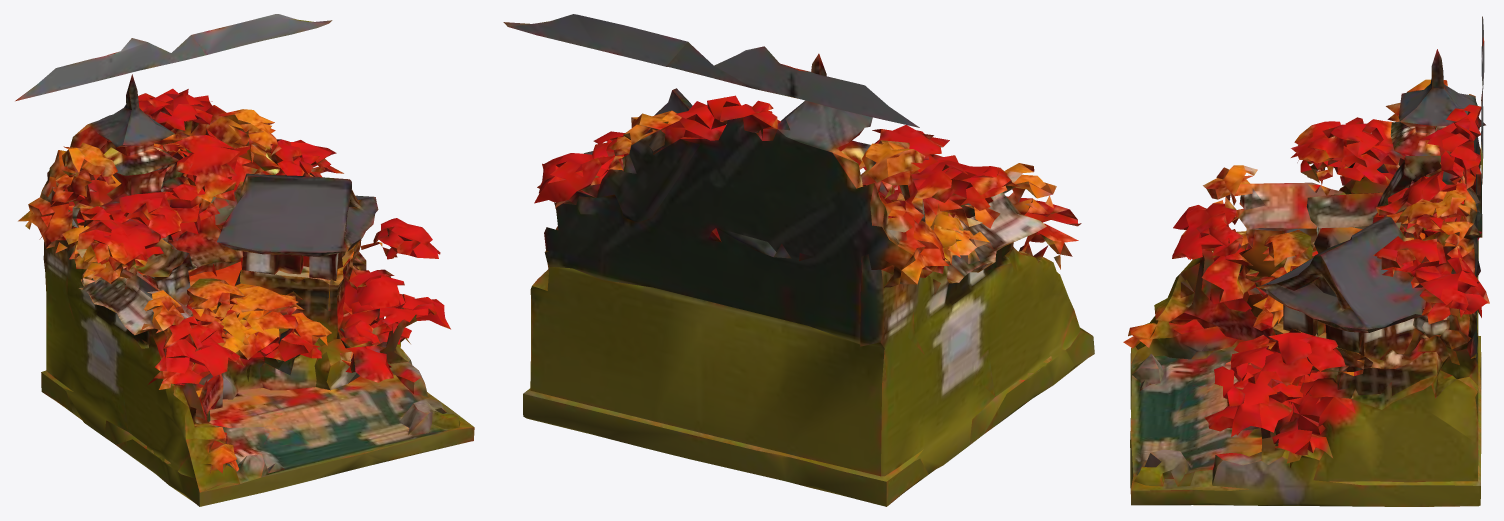
File: eikando.glb
3 renders of one model, left to right at view 1: azimuth 30°, elevation 25°; view 2: azimuth 150°, elevation 25°; view 3: azimuth 270°, elevation 25°, orthographic. The views are drawn at different scales.
Visible parts, largest first — view 1: logan-textured.obj; view 2: logan-textured.obj; view 3: logan-textured.obj.
Boxes of the visible parts, x1,y1,x2,y2 form: logan-textured.obj: (15,14,474,506); logan-textured.obj: (503,14,1094,506); logan-textured.obj: (1123,16,1489,506).
Size of the model in its own units: 1 by 0.9371 by 0.8536.
Materials: 1 (1 with a texture image).
